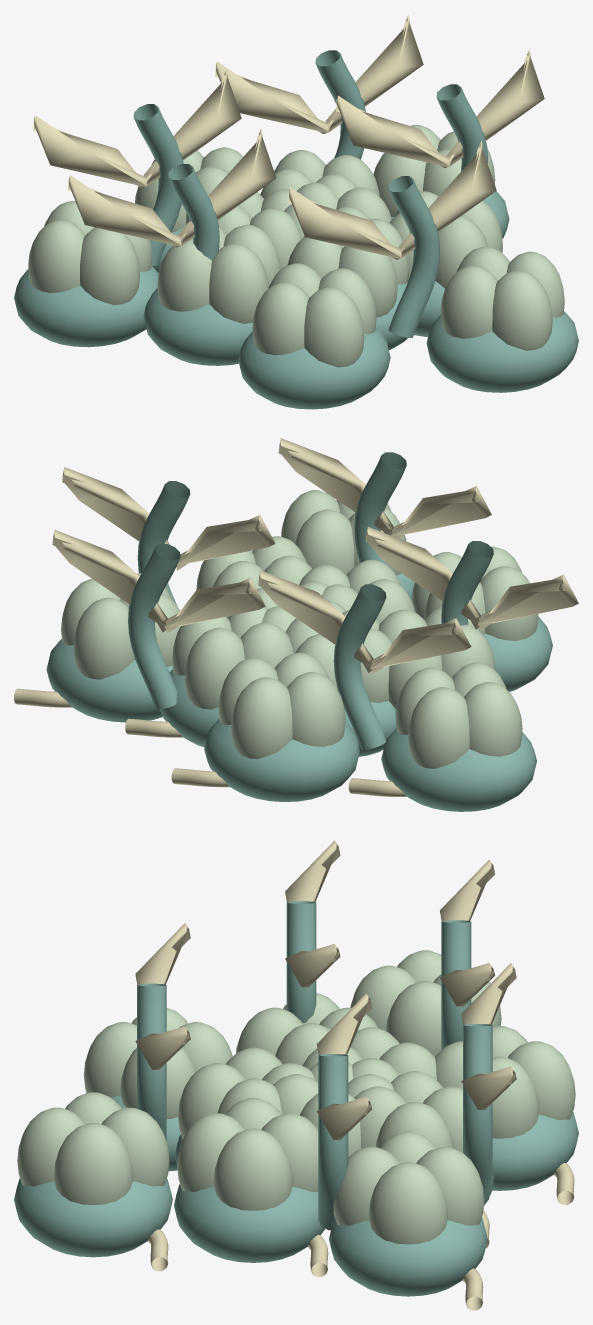
Rendered from bio_oxygen_reef_07_near.glb.
3 views of the same model, one above another, from view 1: azimuth 30°, elevation 25°; view 2: azimuth 150°, elevation 25°; view 3: azimuth 270°, elevation 25° (orthographic). The views are drawn at different scales.
Parts seen in each view (by area): view 1: Lobed gas sac.040, Lobed gas sac.028, Lobed gas sac.036, Lobed gas sac.016, Photosynthetic cushion.007, Photosynthetic cushion.010, Photosynthetic cushion.009, Secondary fan lobe.002, Secondary fan lobe.004, Secondary fan lobe, Secondary fan lobe.008, Secondary fan lobe.006 (+16 smaller); view 2: Lobed gas sac.036, Lobed gas sac.024, Photosynthetic cushion.009, Photosynthetic cushion.006, Lobed gas sac.012, Lobed gas sac.032, Secondary fan lobe.008, Secondary fan lobe.006, Secondary fan lobe.002, Secondary fan lobe.004, Secondary fan lobe, Photosynthetic cushion.008 (+19 smaller); view 3: Lobed gas sac.040, Lobed gas sac.032, Lobed gas sac.020, Photosynthetic cushion.010, Photosynthetic cushion.008, Photosynthetic cushion.005, Lobed gas sac.024, Lobed gas sac.028, Lobed gas sac.036, Lobed gas sac.012, Lobed gas sac.008, Photosynthetic cushion.006 (+18 smaller).
Part boxes in pixels (<box>): Lobed gas sac.040: <box>440,246,564,350</box>; Lobed gas sac.028: <box>252,263,376,367</box>; Lobed gas sac.036: <box>28,201,152,305</box>; Lobed gas sac.016: <box>157,224,280,323</box>; Photosynthetic cushion.007: <box>238,327,390,409</box>; Photosynthetic cushion.010: <box>426,311,578,392</box>; Photosynthetic cushion.009: <box>14,265,158,347</box>; Secondary fan lobe.002: <box>33,68,241,187</box>; Secondary fan lobe.004: <box>288,141,496,259</box>; Secondary fan lobe: <box>336,49,544,168</box>; Secondary fan lobe.008: <box>67,128,276,247</box>; Secondary fan lobe.006: <box>215,15,423,133</box>; Lobed gas sac.036: <box>395,662,522,768</box>; Lobed gas sac.024: <box>218,652,345,759</box>; Photosynthetic cushion.009: <box>381,728,536,811</box>; Photosynthetic cushion.006: <box>204,718,359,801</box>; Lobed gas sac.012: <box>172,606,293,709</box>; Lobed gas sac.032: <box>61,573,180,679</box>; Secondary fan lobe.008: <box>365,527,578,630</box>; Secondary fan lobe.006: <box>52,530,265,633</box>; Secondary fan lobe.002: <box>258,570,471,673</box>; Secondary fan lobe.004: <box>278,438,491,538</box>; Secondary fan lobe: <box>62,467,275,570</box>; Photosynthetic cushion.008: <box>46,639,172,722</box>; Lobed gas sac.040: <box>17,1092,169,1205</box>; Lobed gas sac.032: <box>333,1131,484,1244</box>; Lobed gas sac.020: <box>177,1097,318,1210</box>; Photosynthetic cushion.010: <box>14,1178,172,1257</box>; Photosynthetic cushion.008: <box>329,1218,487,1296</box>; Photosynthetic cushion.005: <box>174,1184,325,1262</box>; Lobed gas sac.024: <box>435,1025,575,1138</box>; Lobed gas sac.028: <box>83,1008,232,1119</box>; Lobed gas sac.036: <box>350,950,501,1056</box>; Lobed gas sac.012: <box>354,1071,462,1152</box>; Lobed gas sac.008: <box>178,1047,314,1139</box>; Photosynthetic cushion.006: <box>492,1112,578,1190</box>.
Size of the model in its own units: 1.86 by 0.765 by 1.71.
